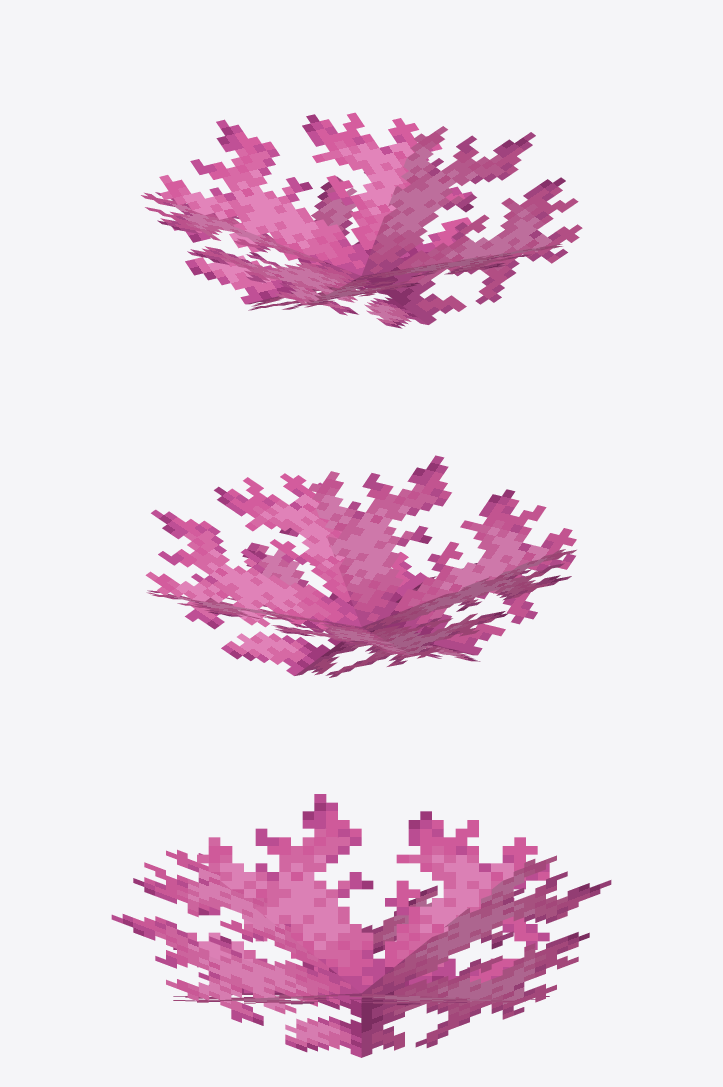
Rendered from block_brain_coral_fan.gltf.
3 views of the same model, one above another, from view 1: azimuth 30°, elevation 25°; view 2: azimuth 150°, elevation 25°; view 3: azimuth 270°, elevation 25° (orthographic). The views are drawn at different scales.
Parts seen in each view (by area): view 1: cube (×4); view 2: cube (×4); view 3: cube (×4).
Boxes of the visible parts, bbox=[...] form: cube (×4): bbox=[141, 112, 582, 328]; cube (×4): bbox=[145, 455, 576, 677]; cube (×4): bbox=[111, 794, 611, 1057].
Size of the model in its own units: 1.85 by 0.3827 by 1.85.
1 material, 1 textured.
